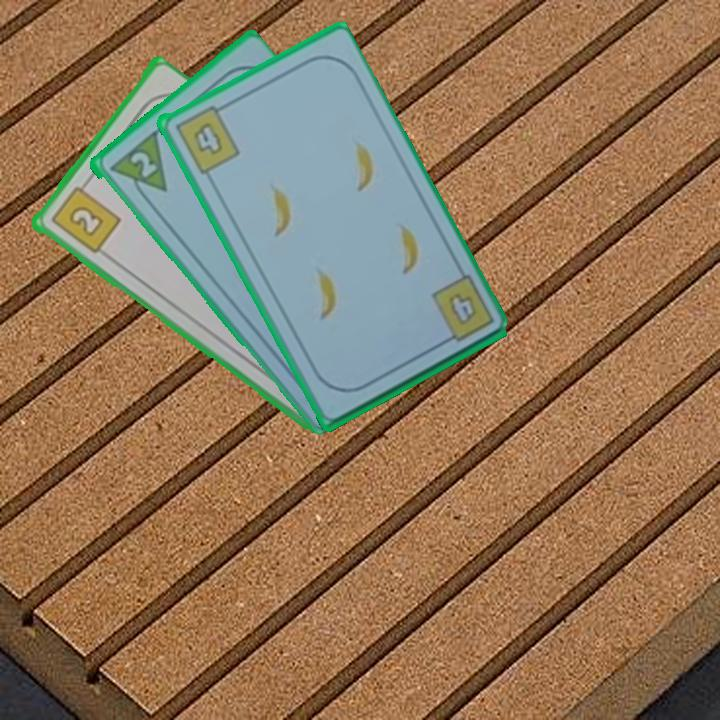2b: (46, 178, 123, 257)
2p: (105, 128, 170, 207)
4b: (170, 100, 242, 177), (427, 271, 497, 349)
